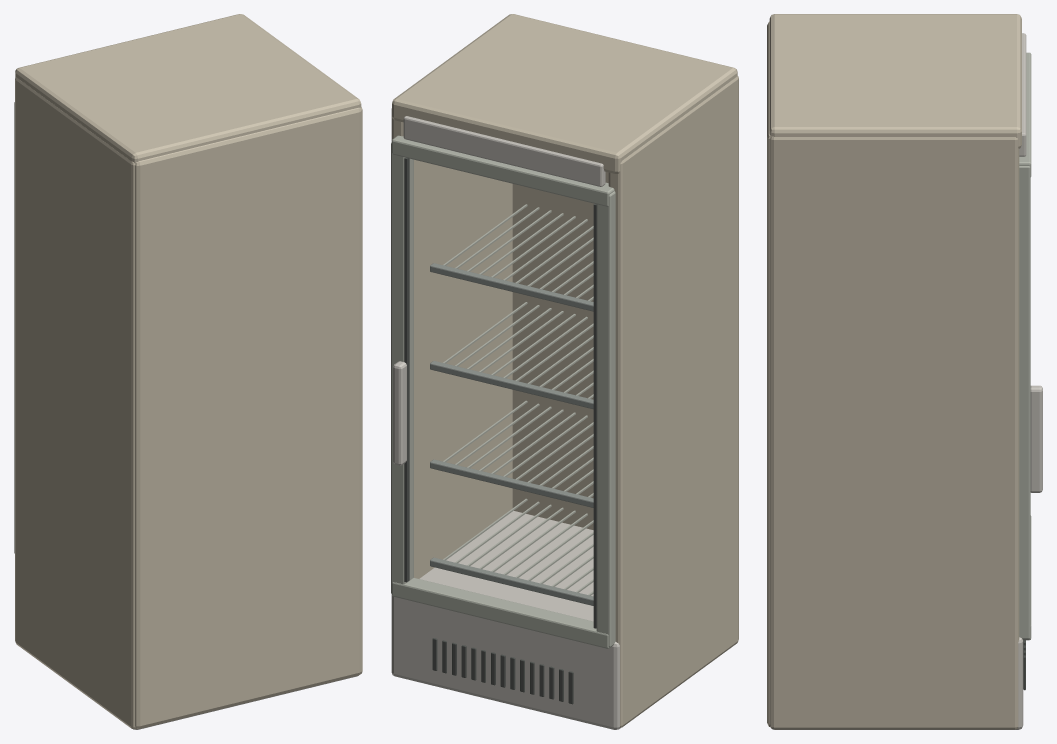
The model's file is cooler.glb.
3 renders of one model, left to right at view 1: azimuth 30°, elevation 25°; view 2: azimuth 150°, elevation 25°; view 3: azimuth 270°, elevation 25°, orthographic. The views are drawn at different scales.
Parts seen in each view (by area): view 1: Tianjin_cooler; view 2: Tianjin_cooler; view 3: Tianjin_cooler.
Part boxes in pixels (x1,y1,x2,y2): Tianjin_cooler: [14, 14, 362, 729]; Tianjin_cooler: [391, 14, 738, 729]; Tianjin_cooler: [767, 14, 1042, 729].
Bounding box in the file's own units: 0.688 × 1.64 × 0.6806.
